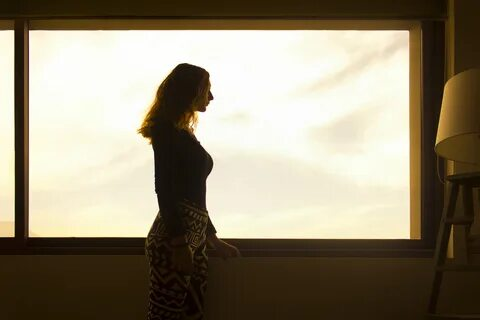awake: (142, 62, 239, 320)
